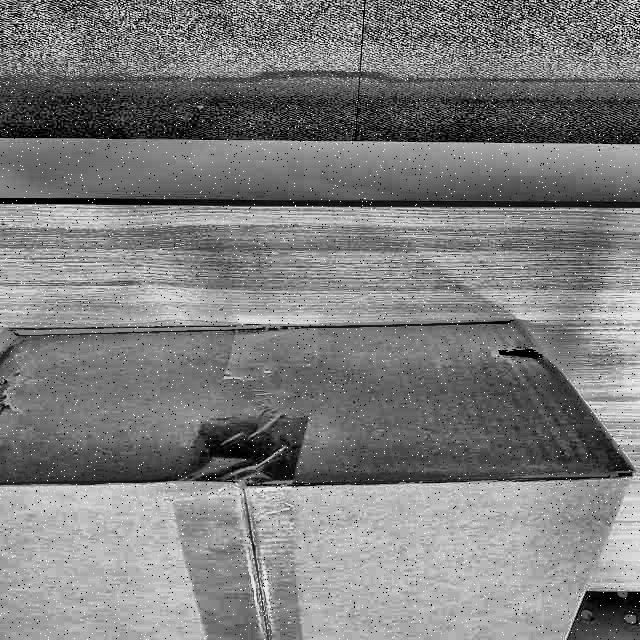box: (1, 307, 640, 640)
hole: (494, 344, 546, 364)
